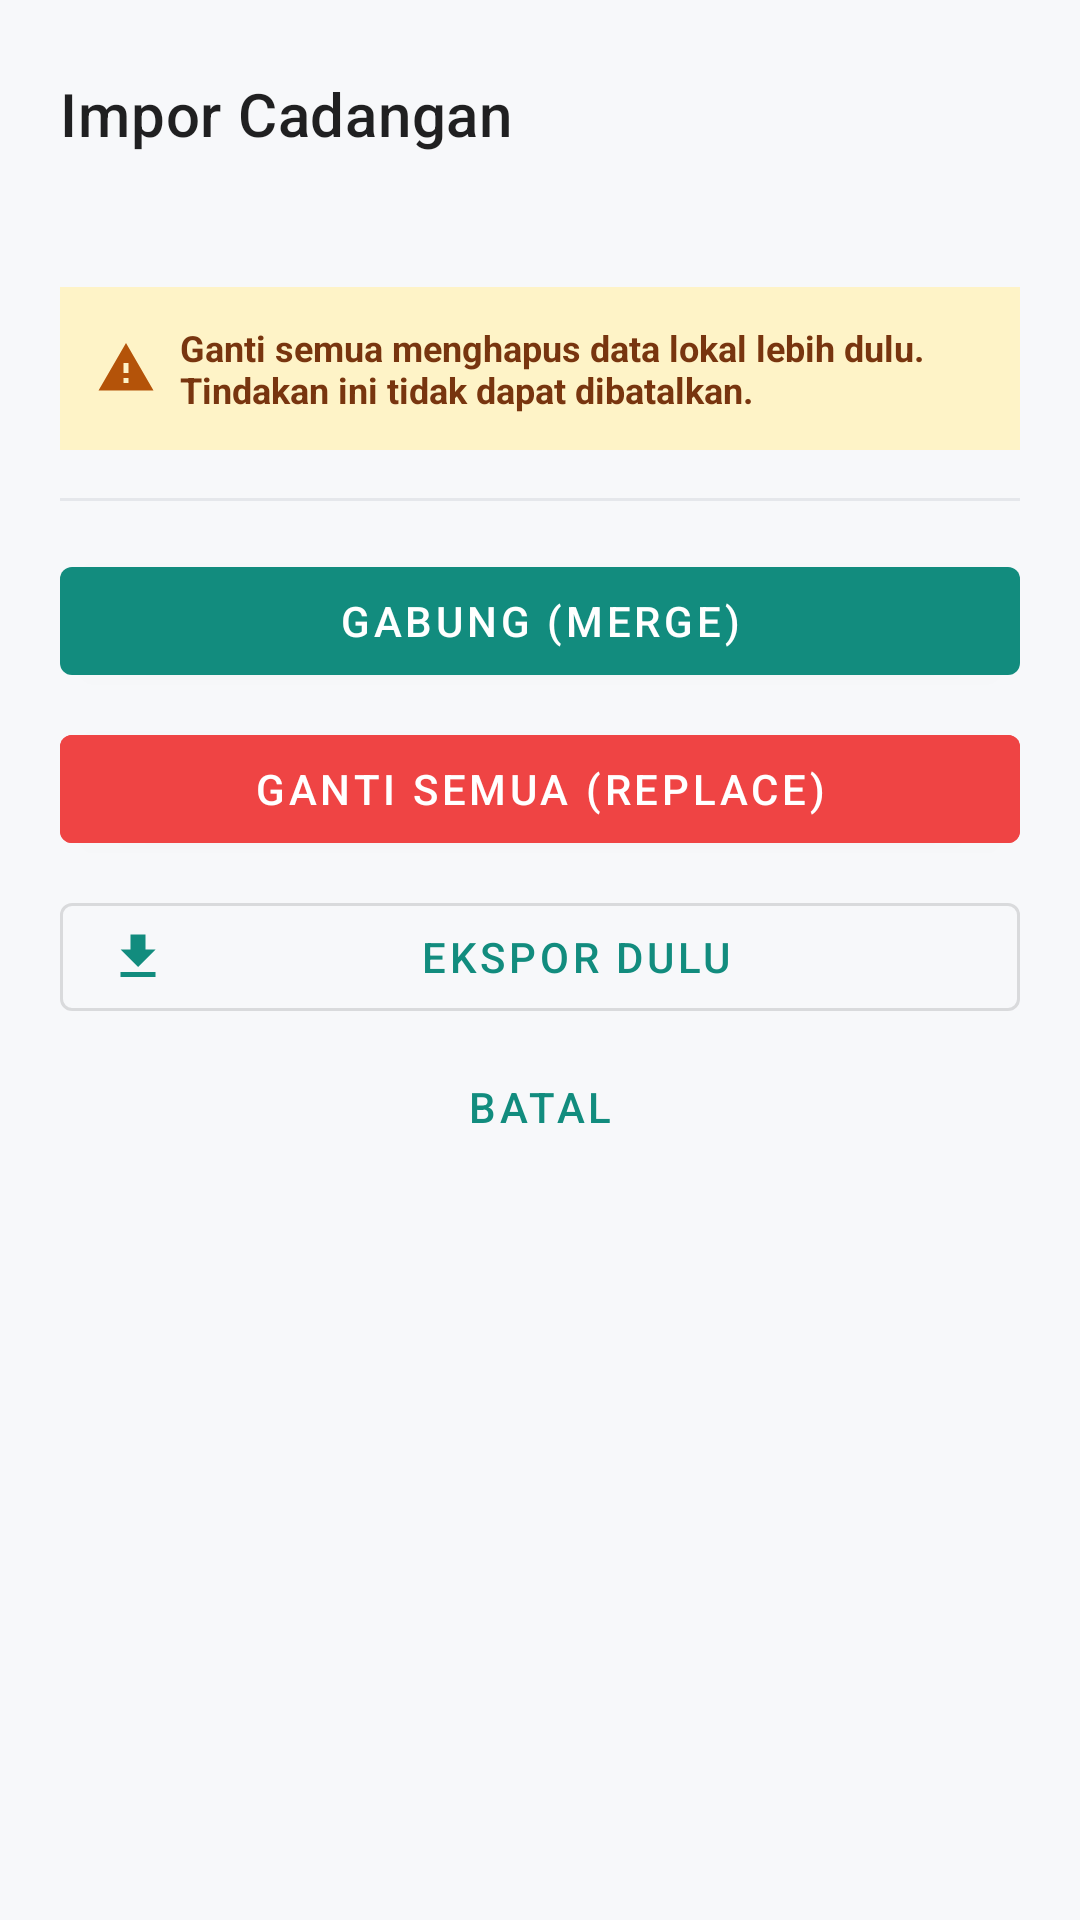

Where icons sit on this 1080×1920 app screen, as (x1, y1, x2, y2):
alert: (98, 343, 154, 391)
